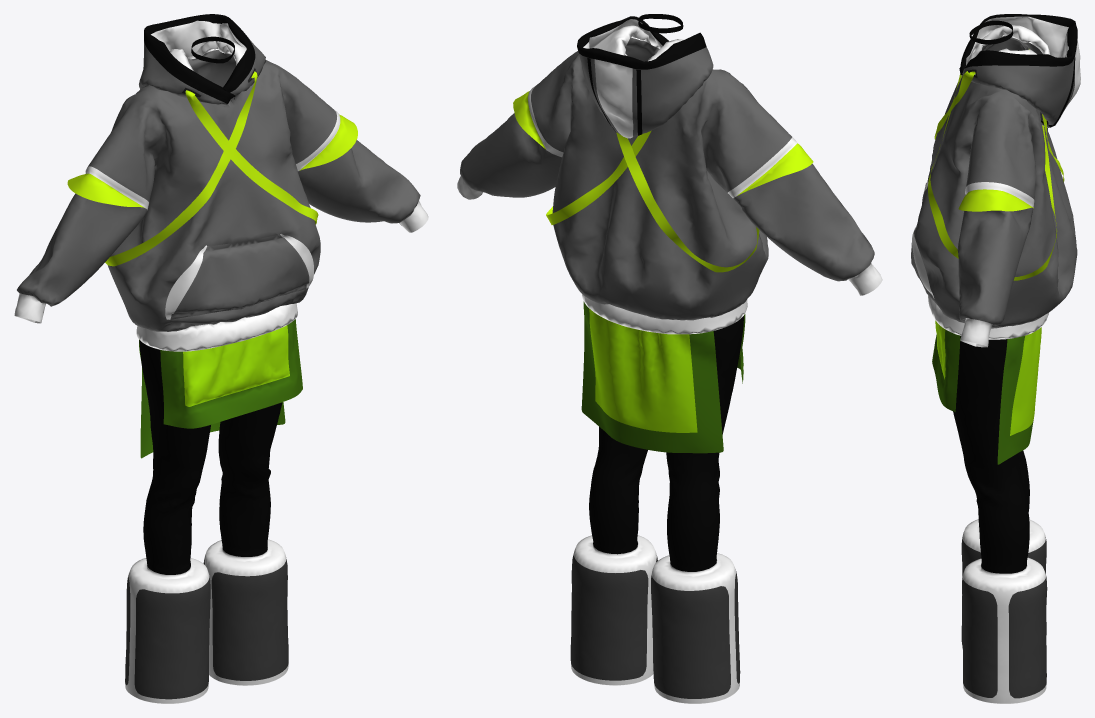
File: xd_hoodie_-_full_outfit.glb
The picture shows the model from 3 angles, left to right: view 1: azimuth 30°, elevation 25°; view 2: azimuth 150°, elevation 25°; view 3: azimuth 270°, elevation 25°; orthographic projection. The views are drawn at different scales.
Visible parts, largest first — view 1: XdHoodie_FullOutfit_0; view 2: XdHoodie_FullOutfit_0; view 3: XdHoodie_FullOutfit_0.
Boxes of the visible parts, x1,y1,x2,y2 form: XdHoodie_FullOutfit_0: (14,14,428,703); XdHoodie_FullOutfit_0: (457,14,882,703); XdHoodie_FullOutfit_0: (911,14,1080,703).
Size of the model in its own units: 0.8363 by 1.25 by 0.2992.
Materials: 2 (2 with a texture image).
